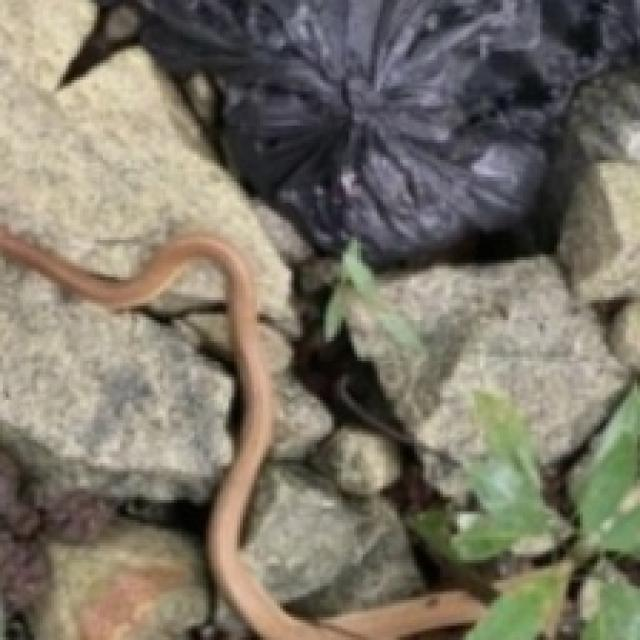king cobra: (0, 226, 289, 637)
